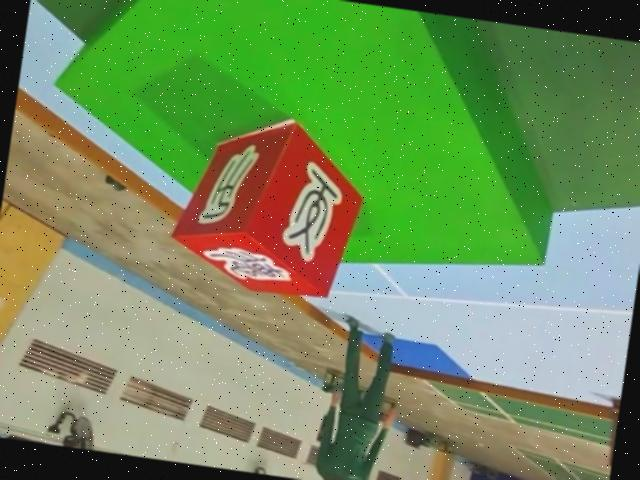R2 Fake: (165, 109, 372, 307)
